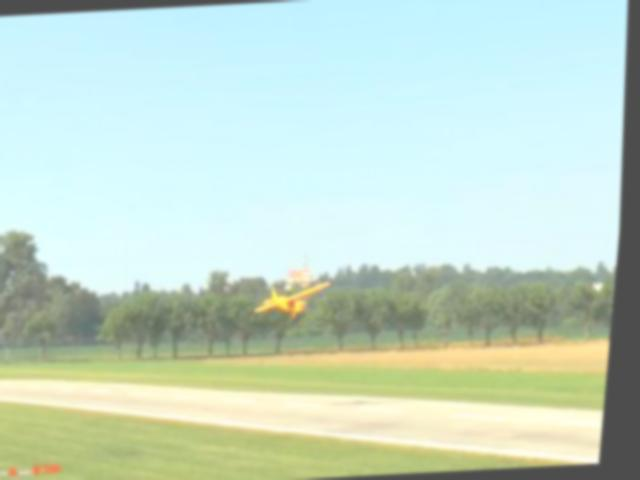uav: (253, 271, 344, 320)
